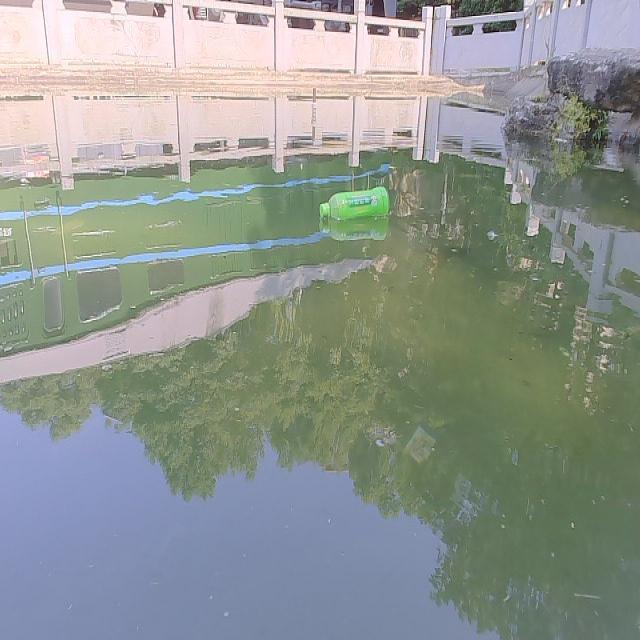bottle: (316, 183, 392, 217)
